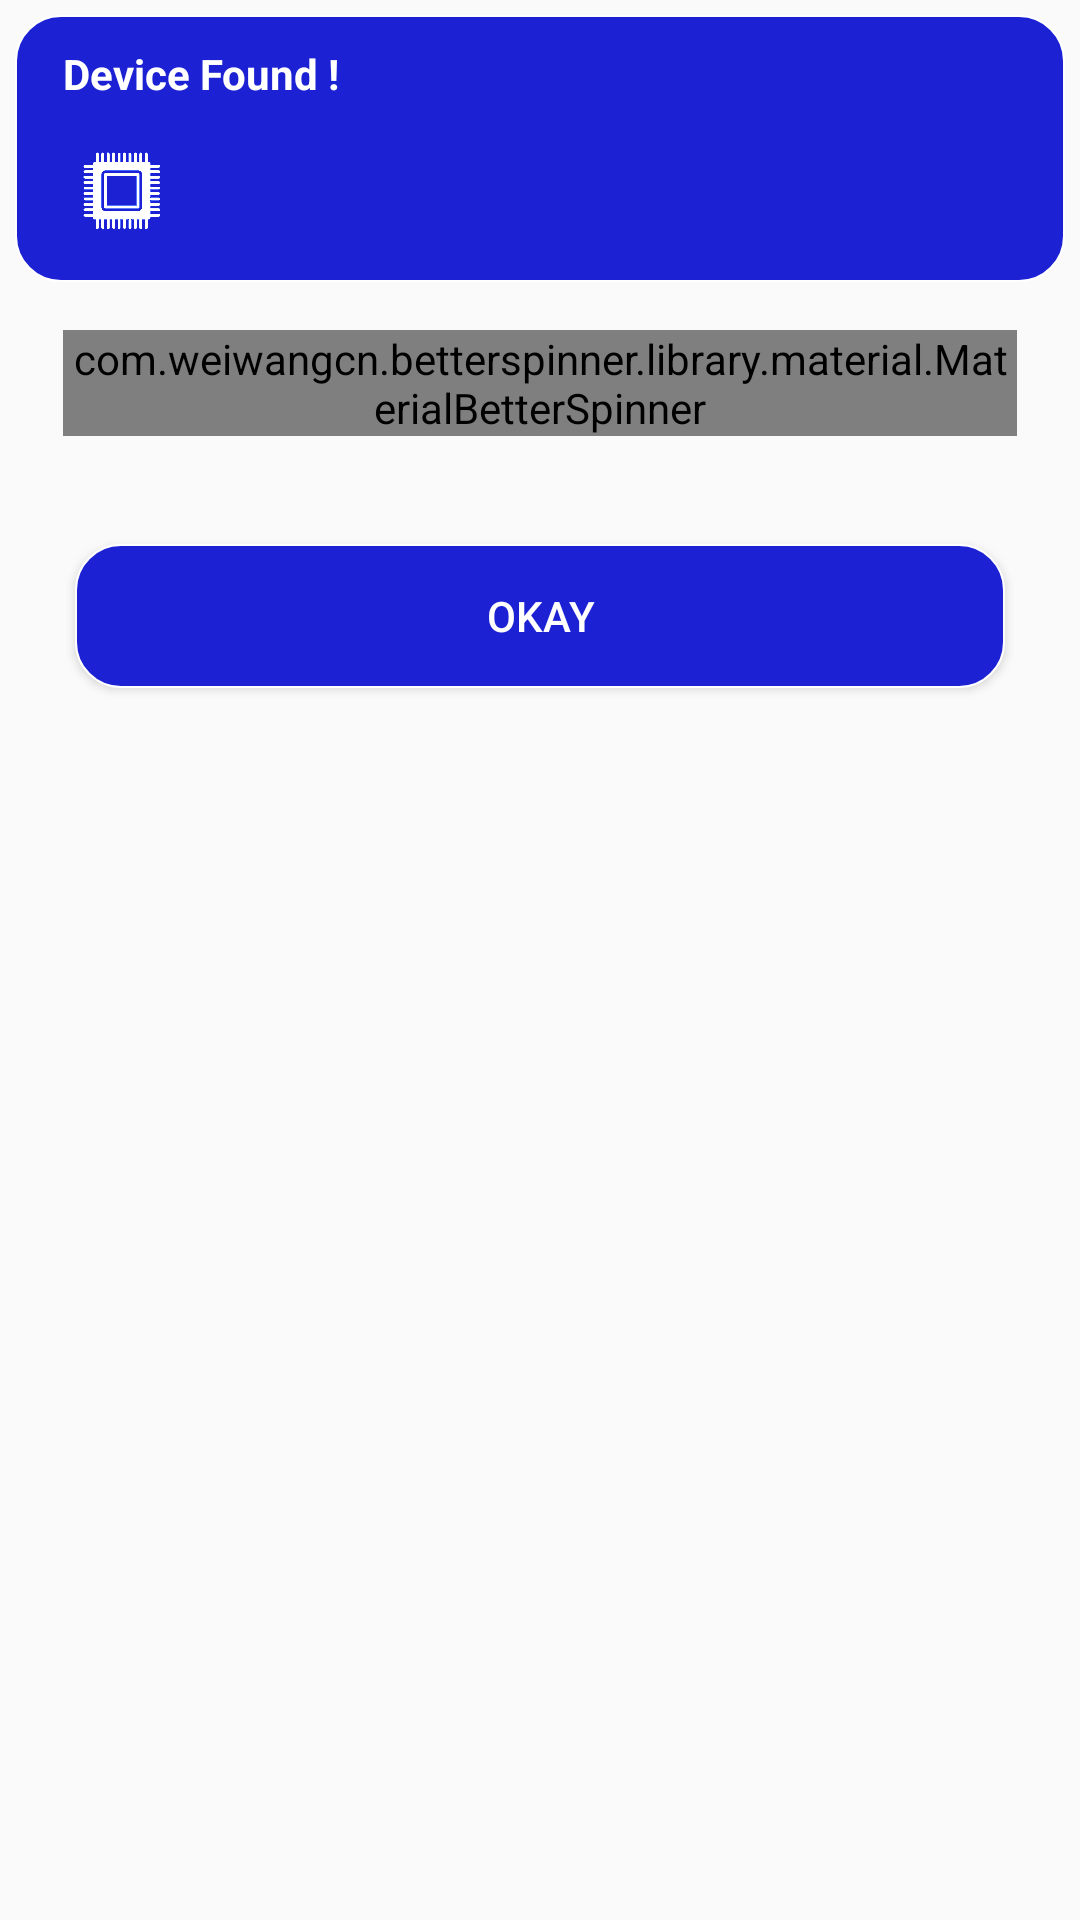

Named icons in this screenshot (1080×1920) and their centers, [x,y]:
hardware: [121,190]
